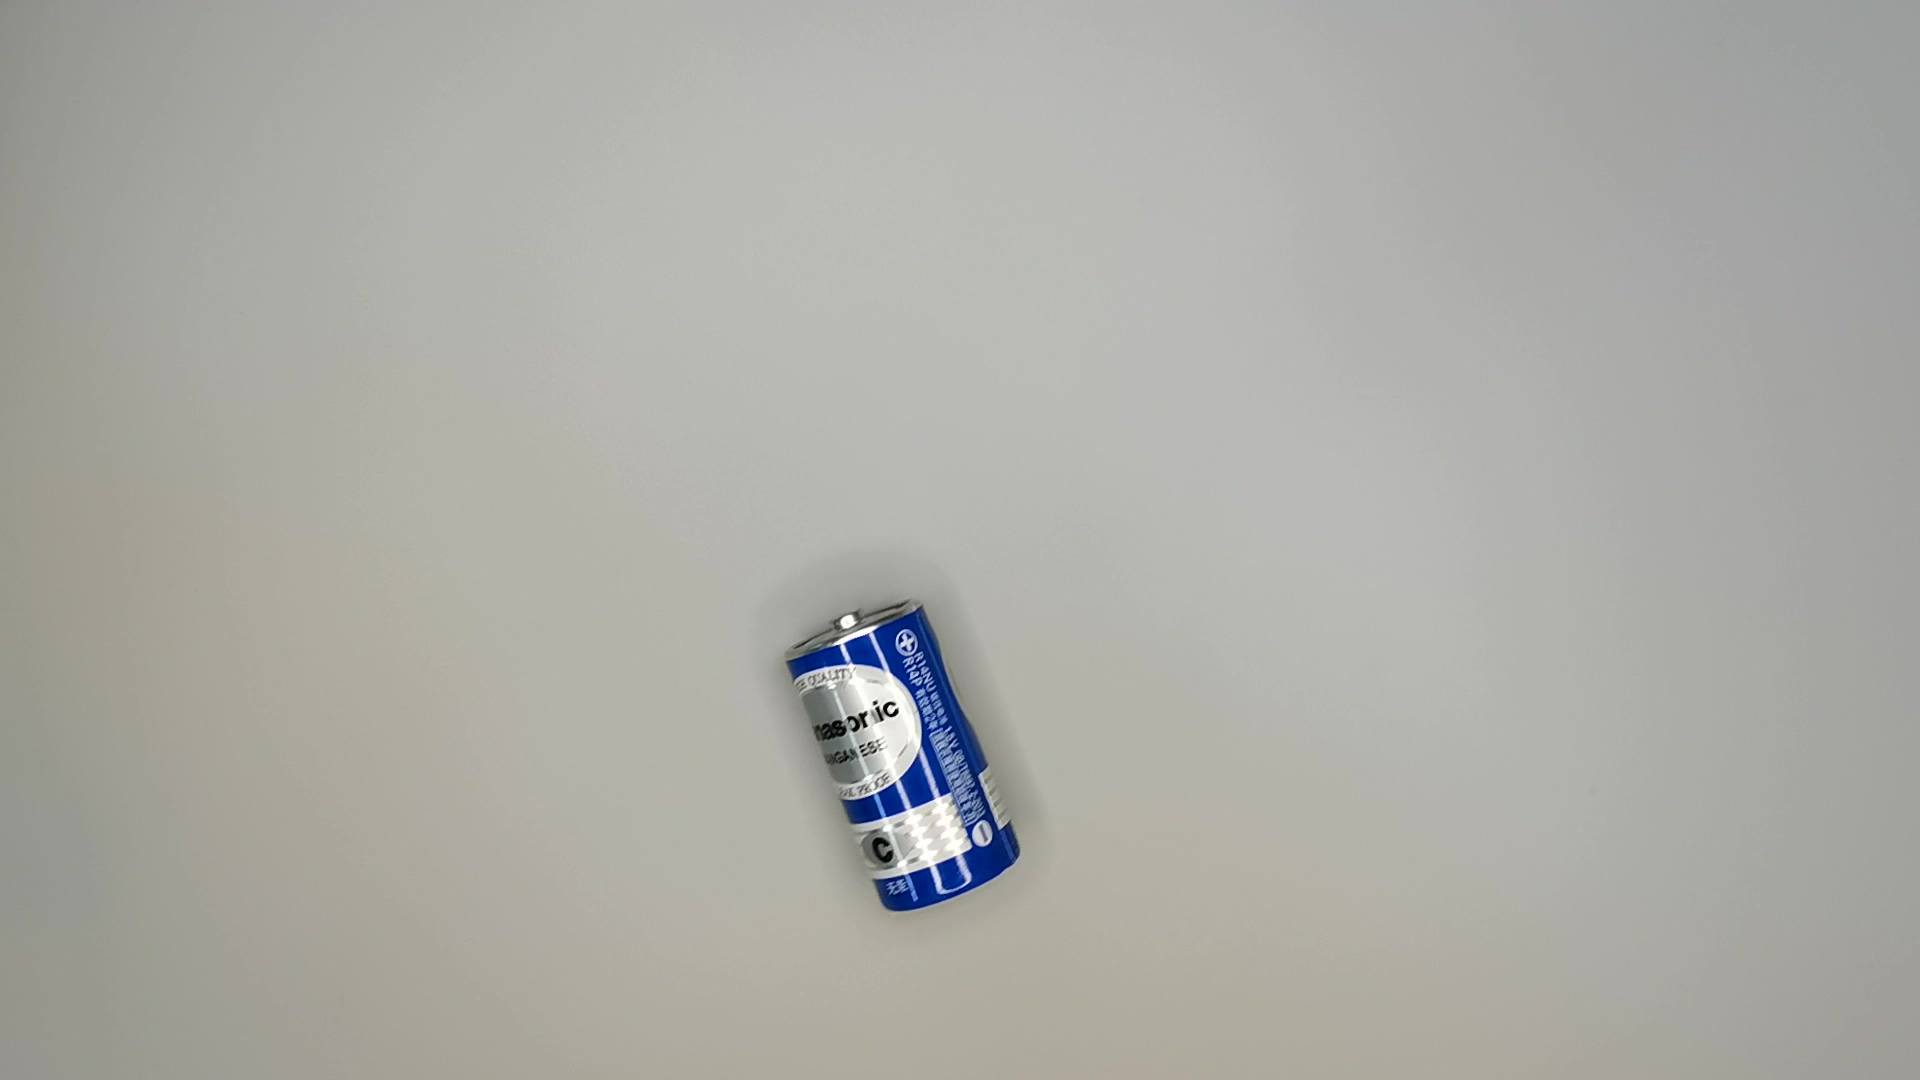battery: (786, 591, 1029, 916)
